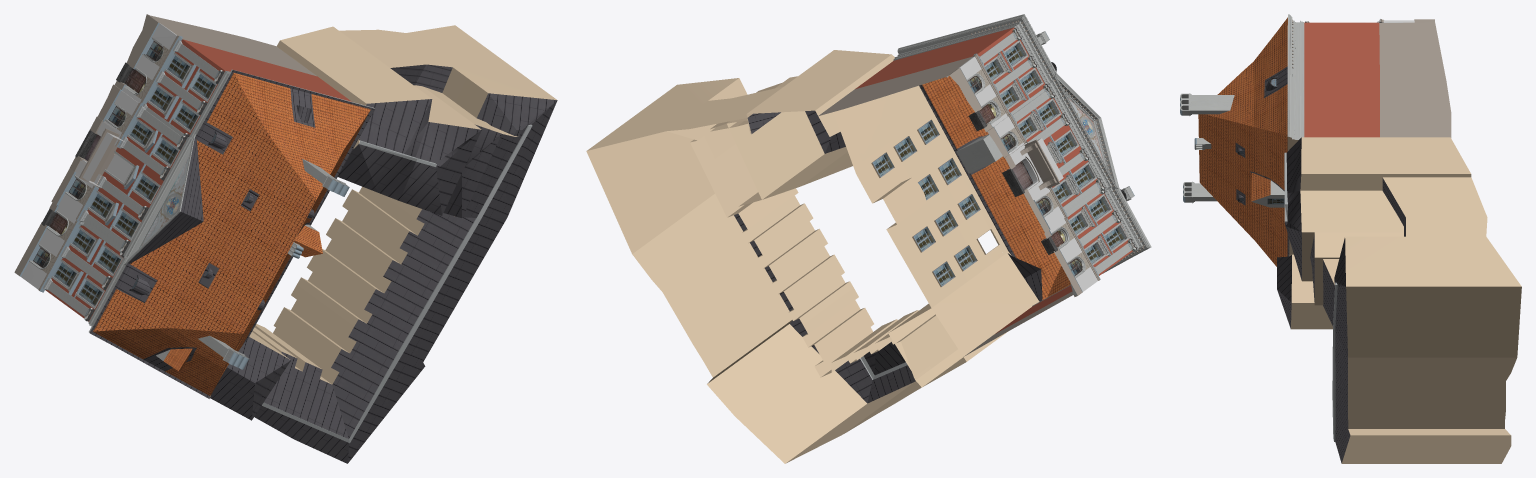
File: Pikk_28.obj
3 renders of one model, left to right at view 1: azimuth 30°, elevation 25°; view 2: azimuth 150°, elevation 25°; view 3: azimuth 270°, elevation 25°, orthographic. The views are drawn at different scales.
Parts seen in each view (by area): view 1: Pikk_28; view 2: Pikk_28; view 3: Pikk_28.
Boxes of the visible parts, left/top/right/bottom form: Pikk_28: left=14, top=14, right=557, bottom=463; Pikk_28: left=586, top=14, right=1151, bottom=463; Pikk_28: left=1180, top=14, right=1521, bottom=463.
Bounding box in the file's own units: 50.44 × 43.46 × 34.64.
